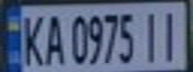0: (66, 11, 87, 65)
5: (118, 8, 142, 63)
7: (103, 9, 121, 64)
9: (84, 10, 106, 65)
A: (39, 11, 66, 66)
I: (157, 6, 187, 62), (139, 7, 163, 63)
K: (18, 10, 45, 66)
